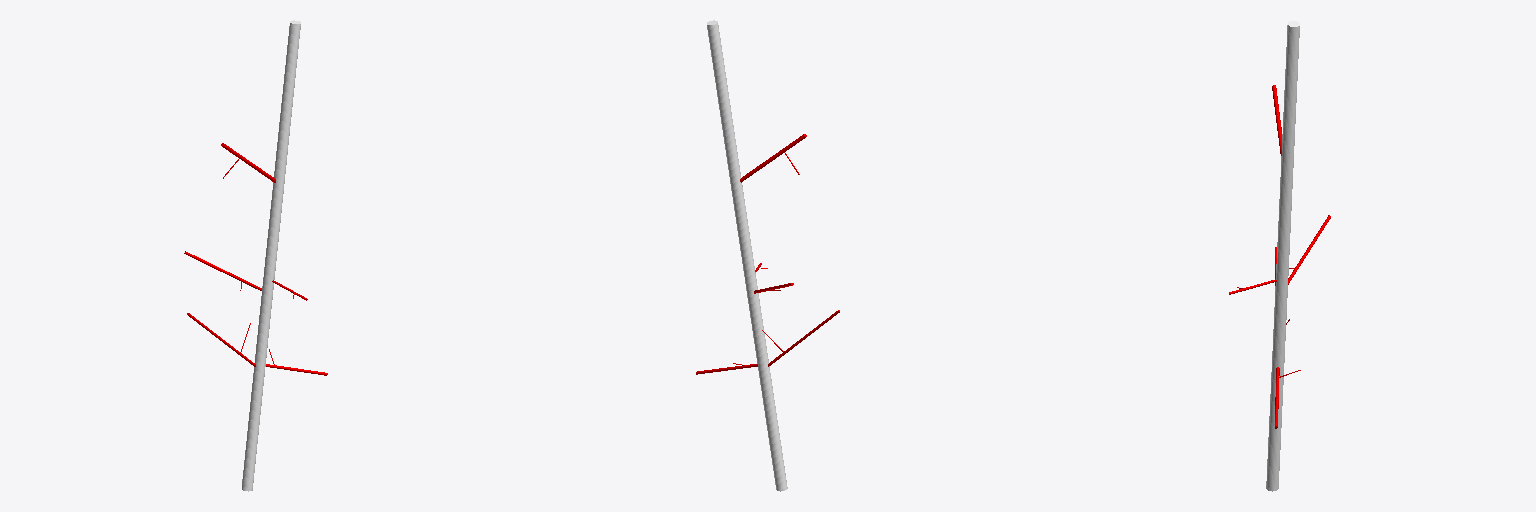
URDF robot description (tree_29.urdf):
<?xml version='1.0' encoding='UTF-8'?>
<robot name="tree_29.urdf">
  <link name="branch_0">
    <inertial>
      <origin xyz="0.0 0.0 0.0" rpy="0.0 -0.0 0.0"/>
      <mass value="0.1"/>
      <inertia ixx="0.001" ixy="0.0" ixz="0.0" iyy="0.001" iyz="0.0" izz="0.001"/>
    </inertial>
    <visual name="branch_0_visual">
      <geometry>
        <cylinder radius="0.11992917321303423" length="10.513630146631808"/>
      </geometry>
      <material name="branch_material"/>
      <origin xyz="0.7095688397833022 0.20373707237827696 5.204719779391453" rpy="6.669416401178072e-18 0.14090039300809196 0.27960617692163664"/>
    </visual>
    <collision name="branch_0_collision">
      <geometry>
        <cylinder radius="0.11992917321303423" length="10.513630146631808"/>
      </geometry>
      <origin xyz="0.7095688397833022 0.20373707237827696 5.204719779391453" rpy="6.669416401178072e-18 0.14090039300809196 0.27960617692163664"/>
    </collision>
  </link>
  <link name="branch_1">
    <inertial>
      <origin xyz="0.0 0.0 0.0" rpy="0.0 -0.0 0.0"/>
      <mass value="0.1"/>
      <inertia ixx="0.001" ixy="0.0" ixz="0.0" iyy="0.001" iyz="0.0" izz="0.001"/>
    </inertial>
    <visual name="branch_1_visual">
      <geometry>
        <cylinder radius="0.02908228443704139" length="2.4601493048500265"/>
      </geometry>
      <material name="semantic_material"/>
      <origin xyz="0.0 0.0 0.0" rpy="0.0 -0.0 0.0"/>
    </visual>
    <collision name="branch_1_collision">
      <geometry>
        <cylinder radius="0.02908228443704139" length="2.4601493048500265"/>
      </geometry>
      <origin xyz="0.0 0.0 0.0" rpy="0.0 -0.0 0.0"/>
    </collision>
  </link>
  <link name="branch_2">
    <inertial>
      <origin xyz="0.0 0.0 0.0" rpy="0.0 -0.0 0.0"/>
      <mass value="0.1"/>
      <inertia ixx="0.001" ixy="0.0" ixz="0.0" iyy="0.001" iyz="0.0" izz="0.001"/>
    </inertial>
    <visual name="branch_2_visual">
      <geometry>
        <cylinder radius="0.01" length="0.6965583578547693"/>
      </geometry>
      <material name="semantic_material"/>
      <origin xyz="0.0 0.0 0.0" rpy="0.0 -0.0 0.0"/>
    </visual>
    <collision name="branch_2_collision">
      <geometry>
        <cylinder radius="0.01" length="0.6965583578547693"/>
      </geometry>
      <origin xyz="0.0 0.0 0.0" rpy="0.0 -0.0 0.0"/>
    </collision>
  </link>
  <link name="branch_3">
    <inertial>
      <origin xyz="0.0 0.0 0.0" rpy="0.0 -0.0 0.0"/>
      <mass value="0.1"/>
      <inertia ixx="0.001" ixy="0.0" ixz="0.0" iyy="0.001" iyz="0.0" izz="0.001"/>
    </inertial>
    <visual name="branch_3_visual">
      <geometry>
        <cylinder radius="0.04142797489949576" length="2.0383909520293044"/>
      </geometry>
      <material name="semantic_material"/>
      <origin xyz="0.0 0.0 0.0" rpy="0.0 -0.0 0.0"/>
    </visual>
    <collision name="branch_3_collision">
      <geometry>
        <cylinder radius="0.04142797489949576" length="2.0383909520293044"/>
      </geometry>
      <origin xyz="0.0 0.0 0.0" rpy="0.0 -0.0 0.0"/>
    </collision>
  </link>
  <link name="branch_4">
    <inertial>
      <origin xyz="0.0 0.0 0.0" rpy="0.0 -0.0 0.0"/>
      <mass value="0.1"/>
      <inertia ixx="0.001" ixy="0.0" ixz="0.0" iyy="0.001" iyz="0.0" izz="0.001"/>
    </inertial>
    <visual name="branch_4_visual">
      <geometry>
        <cylinder radius="0.012291893708172186" length="0.5907317779857185"/>
      </geometry>
      <material name="semantic_material"/>
      <origin xyz="0.0 0.0 0.0" rpy="0.0 -0.0 0.0"/>
    </visual>
    <collision name="branch_4_collision">
      <geometry>
        <cylinder radius="0.012291893708172186" length="0.5907317779857185"/>
      </geometry>
      <origin xyz="0.0 0.0 0.0" rpy="0.0 -0.0 0.0"/>
    </collision>
  </link>
  <link name="branch_5">
    <inertial>
      <origin xyz="0.0 0.0 0.0" rpy="0.0 -0.0 0.0"/>
      <mass value="0.1"/>
      <inertia ixx="0.001" ixy="0.0" ixz="0.0" iyy="0.001" iyz="0.0" izz="0.001"/>
    </inertial>
    <visual name="branch_5_visual">
      <geometry>
        <cylinder radius="0.025093608499673088" length="1.0789944830527751"/>
      </geometry>
      <material name="semantic_material"/>
      <origin xyz="0.0 0.0 0.0" rpy="0.0 -0.0 0.0"/>
    </visual>
    <collision name="branch_5_collision">
      <geometry>
        <cylinder radius="0.025093608499673088" length="1.0789944830527751"/>
      </geometry>
      <origin xyz="0.0 0.0 0.0" rpy="0.0 -0.0 0.0"/>
    </collision>
  </link>
  <link name="branch_6">
    <inertial>
      <origin xyz="0.0 0.0 0.0" rpy="0.0 -0.0 0.0"/>
      <mass value="0.1"/>
      <inertia ixx="0.001" ixy="0.0" ixz="0.0" iyy="0.001" iyz="0.0" izz="0.001"/>
    </inertial>
    <visual name="branch_6_visual">
      <geometry>
        <cylinder radius="0.01" length="0.2324739629114006"/>
      </geometry>
      <material name="semantic_material"/>
      <origin xyz="0.0 0.0 0.0" rpy="0.0 -0.0 0.0"/>
    </visual>
    <collision name="branch_6_collision">
      <geometry>
        <cylinder radius="0.01" length="0.2324739629114006"/>
      </geometry>
      <origin xyz="0.0 0.0 0.0" rpy="0.0 -0.0 0.0"/>
    </collision>
  </link>
  <link name="branch_7">
    <inertial>
      <origin xyz="0.0 0.0 0.0" rpy="0.0 -0.0 0.0"/>
      <mass value="0.1"/>
      <inertia ixx="0.001" ixy="0.0" ixz="0.0" iyy="0.001" iyz="0.0" izz="0.001"/>
    </inertial>
    <visual name="branch_7_visual">
      <geometry>
        <cylinder radius="0.0323782548279145" length="1.967904923105354"/>
      </geometry>
      <material name="semantic_material"/>
      <origin xyz="0.0 0.0 0.0" rpy="0.0 -0.0 0.0"/>
    </visual>
    <collision name="branch_7_collision">
      <geometry>
        <cylinder radius="0.0323782548279145" length="1.967904923105354"/>
      </geometry>
      <origin xyz="0.0 0.0 0.0" rpy="0.0 -0.0 0.0"/>
    </collision>
  </link>
  <link name="branch_8">
    <inertial>
      <origin xyz="0.0 0.0 0.0" rpy="0.0 -0.0 0.0"/>
      <mass value="0.1"/>
      <inertia ixx="0.001" ixy="0.0" ixz="0.0" iyy="0.001" iyz="0.0" izz="0.001"/>
    </inertial>
    <visual name="branch_8_visual">
      <geometry>
        <cylinder radius="0.01" length="0.37626351040718614"/>
      </geometry>
      <material name="semantic_material"/>
      <origin xyz="0.0 0.0 0.0" rpy="0.0 -0.0 0.0"/>
    </visual>
    <collision name="branch_8_collision">
      <geometry>
        <cylinder radius="0.01" length="0.37626351040718614"/>
      </geometry>
      <origin xyz="0.0 0.0 0.0" rpy="0.0 -0.0 0.0"/>
    </collision>
  </link>
  <link name="branch_9">
    <inertial>
      <origin xyz="0.0 0.0 0.0" rpy="0.0 -0.0 0.0"/>
      <mass value="0.1"/>
      <inertia ixx="0.001" ixy="0.0" ixz="0.0" iyy="0.001" iyz="0.0" izz="0.001"/>
    </inertial>
    <visual name="branch_9_visual">
      <geometry>
        <cylinder radius="0.032218587521209784" length="1.7131451836239393"/>
      </geometry>
      <material name="semantic_material"/>
      <origin xyz="0.0 0.0 0.0" rpy="0.0 -0.0 0.0"/>
    </visual>
    <collision name="branch_9_collision">
      <geometry>
        <cylinder radius="0.032218587521209784" length="1.7131451836239393"/>
      </geometry>
      <origin xyz="0.0 0.0 0.0" rpy="0.0 -0.0 0.0"/>
    </collision>
  </link>
  <link name="branch_10">
    <inertial>
      <origin xyz="0.0 0.0 0.0" rpy="0.0 -0.0 0.0"/>
      <mass value="0.1"/>
      <inertia ixx="0.001" ixy="0.0" ixz="0.0" iyy="0.001" iyz="0.0" izz="0.001"/>
    </inertial>
    <visual name="branch_10_visual">
      <geometry>
        <cylinder radius="0.01" length="0.49337531323801215"/>
      </geometry>
      <material name="semantic_material"/>
      <origin xyz="0.0 0.0 0.0" rpy="0.0 -0.0 0.0"/>
    </visual>
    <collision name="branch_10_collision">
      <geometry>
        <cylinder radius="0.01" length="0.49337531323801215"/>
      </geometry>
      <origin xyz="0.0 0.0 0.0" rpy="0.0 -0.0 0.0"/>
    </collision>
  </link>
  <joint name="joint_0_1" type="fixed">
    <parent link="branch_0"/>
    <child link="branch_1"/>
    <axis xyz="1. 0. 0."/>
    <origin xyz="-0.5176626457137399 0.08756871004807819 3.54047783613942" rpy="0.04617075083366934 0.8007041289726752 -3.057477198517863"/>
  </joint>
  <joint name="joint_0_3" type="fixed">
    <parent link="branch_0"/>
    <child link="branch_3"/>
    <axis xyz="1. 0. 0."/>
    <origin xyz="0.17600697916528343 0.14900212076681818 7.494930005278718" rpy="0.023583269165218405 0.8454653018473979 -2.9548646326615158"/>
  </joint>
  <joint name="joint_0_5" type="fixed">
    <parent link="branch_0"/>
    <child link="branch_5"/>
    <axis xyz="1. 0. 0."/>
    <origin xyz="0.8118680207790643 -0.3217204818359748 4.6160919377732474" rpy="-2.3684152111070866 1.3688167299807346 2.682220453486607"/>
  </joint>
  <joint name="joint_0_7" type="fixed">
    <parent link="branch_0"/>
    <child link="branch_7"/>
    <axis xyz="1. 0. 0."/>
    <origin xyz="-0.14260724773195485 0.6333544213301358 4.8416983441931265" rpy="0.21273769395128875 1.0788644661488436 2.8246442812508876"/>
  </joint>
  <joint name="joint_0_9" type="fixed">
    <parent link="branch_0"/>
    <child link="branch_9"/>
    <axis xyz="1. 0. 0."/>
    <origin xyz="1.184035248933272 0.0908717268004645 2.4923120014337217" rpy="-3.0252972850179454 1.2170922028898201 -3.0403603434061486"/>
  </joint>
  <joint name="joint_1_2" type="fixed">
    <parent link="branch_0"/>
    <child link="branch_2"/>
    <axis xyz="1. 0. 0."/>
    <origin xyz="0.08123017327674933 0.2143446851958723 3.4126889570519623" rpy="-0.306754623354919 0.6598609021750377 0.06812541889072013"/>
  </joint>
  <joint name="joint_3_4" type="fixed">
    <parent link="branch_0"/>
    <child link="branch_4"/>
    <axis xyz="1. 0. 0."/>
    <origin xyz="-0.29961277405150444 0.13279742154656787 7.526503531150077" rpy="-2.94260238686316 0.7415895819586832 0.1596615229237312"/>
  </joint>
  <joint name="joint_5_6" type="fixed">
    <parent link="branch_0"/>
    <child link="branch_6"/>
    <axis xyz="1. 0. 0."/>
    <origin xyz="0.8020263096246468 -0.5866661683880507 4.56983366316971" rpy="-1.7412796647173858 -0.05669504048623549 2.5067360508711123"/>
  </joint>
  <joint name="joint_7_8" type="fixed">
    <parent link="branch_0"/>
    <child link="branch_8"/>
    <axis xyz="1. 0. 0."/>
    <origin xyz="0.03670614996278915 0.3047055366862946 4.630527056873775" rpy="1.8007261754594155 0.4660811661371396 -0.4858110652619086"/>
  </joint>
  <joint name="joint_9_10" type="fixed">
    <parent link="branch_0"/>
    <child link="branch_10"/>
    <axis xyz="1. 0. 0."/>
    <origin xyz="0.7884418191804288 0.3175675613414652 2.762299122615218" rpy="1.0953176027166016 -0.36924690913329183 3.082094159583129"/>
  </joint>
  <material name="branch_material">
    <color rgba="1. 1. 1. 1."/>
  </material>
  <material name="semantic_material">
    <color rgba="1. 0. 0. 1."/>
  </material>
</robot>

--- What the picture shows (computed from the rendered views, not written in the file) ---
Views: 3 orthographic renders of the robot side by side, from view 1: azimuth 30°, elevation 25°; view 2: azimuth 150°, elevation 25°; view 3: azimuth 270°, elevation 25°.
Robot: tree_29.urdf — 11 links, 10 joints (10 fixed); root link branch_0; default pose: every joint at zero.
Links seen in each view (by area): view 1: branch_0; view 2: branch_0; view 3: branch_0.
Link boxes in pixels (bbox=[...]): branch_0: bbox=[242, 20, 300, 491]; branch_0: bbox=[707, 20, 787, 491]; branch_0: bbox=[1266, 20, 1299, 491].
Bounding box of the posed robot: 3.42 × 1.96 × 10.44 m (x, y, z).
Geometry: primitives only (box / cylinder / sphere), no mesh files.
